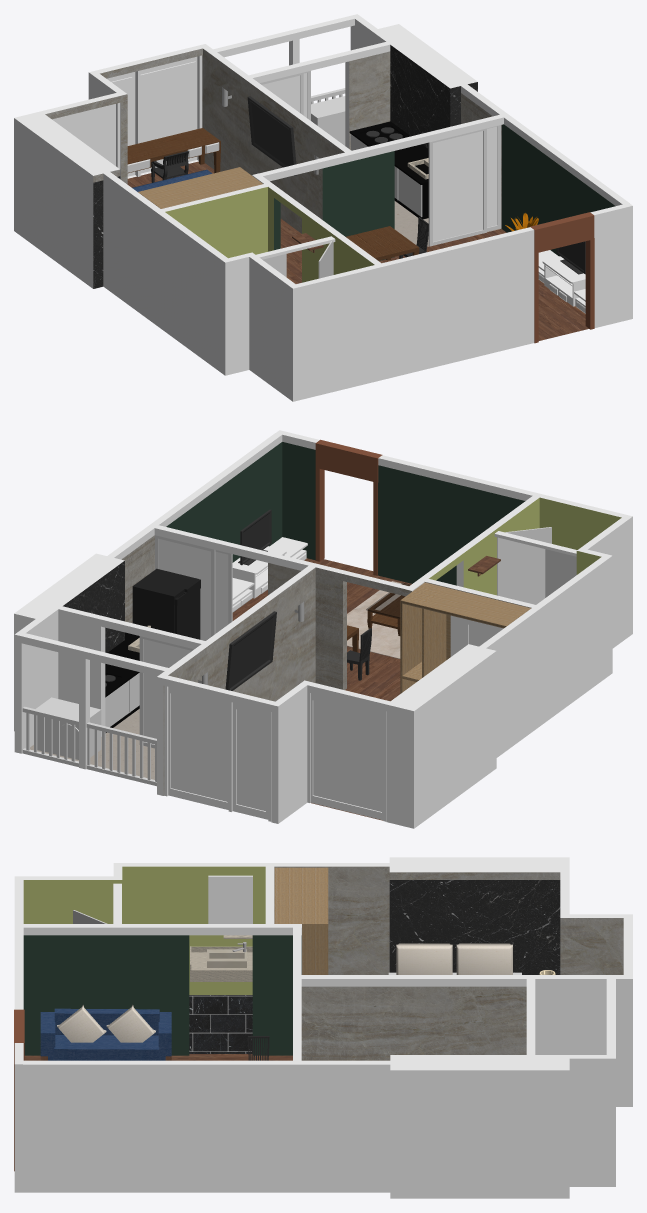
Rendered from room1.fbx.
The picture shows the model from 3 angles, top to bottom: view 1: azimuth 30°, elevation 25°; view 2: azimuth 150°, elevation 25°; view 3: azimuth 270°, elevation 25°; orthographic projection. The views are drawn at different scales.
Parts seen in each view (by area): view 1: Plane, Cube.001, window, floor, door, shelf.002, wardrobe, window.001, TV.001, table.002, secondary class, Cube.002 (+5 smaller); view 2: Plane, window, window.001, wardrobe, floor, balcony, door, glass, Cube.002, fridge.001, TV.001, Cube.004 (+12 smaller); view 3: Plane, chair.003, floor, wardrobe, pillow, glass.001, basin, leaning pillow.001, leaning pillow, basin.001, door.
Boxes of the visible parts, x1,y1,x2,y2 form: Plane: (14,14,632,401); Cube.001: (428,128,486,246); window: (107,55,202,177); floor: (127,161,588,340); door: (530,212,594,343); shelf.002: (349,121,428,219); wardrobe: (138,167,262,208); window.001: (52,103,120,168); TV.001: (247,96,296,175); table.002: (127,128,220,173); secondary class: (538,250,585,313); Cube.002: (487,125,501,231); Plane: (14,430,632,828); window: (164,686,271,821); window.001: (307,692,386,821); wardrobe: (400,582,530,693); floor: (30,558,411,820); balcony: (22,706,156,786); door: (315,439,382,575); glass: (497,527,551,604); Cube.002: (155,535,215,640); fridge.001: (132,568,197,633); TV.001: (225,611,276,690); Cube.004: (139,636,193,748); Plane: (14,857,632,1198); chair.003: (40,1008,171,1060); floor: (24,995,292,1060); wardrobe: (274,867,328,974); pillow: (396,943,512,974); glass.001: (208,875,252,923); basin: (190,946,252,981); leaning pillow.001: (106,1004,155,1042); leaning pillow: (57,1004,106,1042); basin.001: (207,949,246,967); door: (14,1009,24,1171).
Size of the model in its own units: 57.62 by 16.48 by 70.82.
